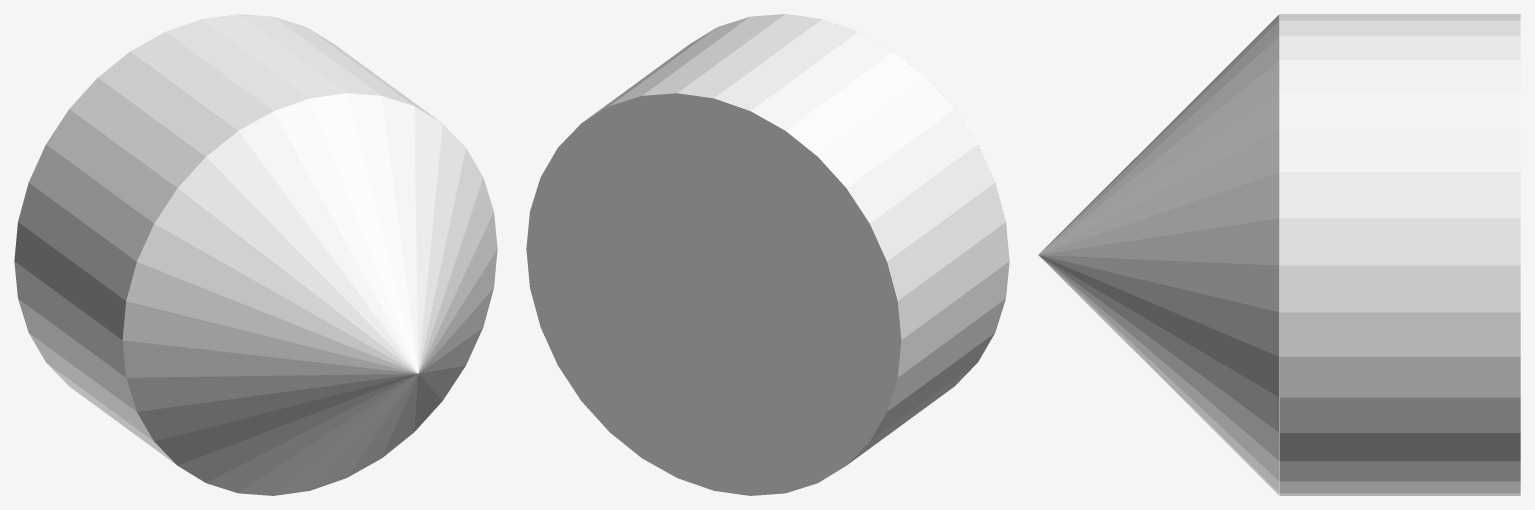
Rendered from playerBullet.obj.
3 renders of one model, left to right at view 1: azimuth 30°, elevation 25°; view 2: azimuth 150°, elevation 25°; view 3: azimuth 270°, elevation 25°, orthographic. The views are drawn at different scales.
Visible parts, largest first — view 1: 円錐; view 2: 円錐; view 3: 円錐.
Part boxes in pixels (x1,y1,x2,y2): 円錐: [14, 14, 497, 495]; 円錐: [526, 14, 1009, 495]; 円錐: [1038, 14, 1520, 495].
Bounding box in the file's own units: 2 × 2 × 2.
1 material, 1 textured.
